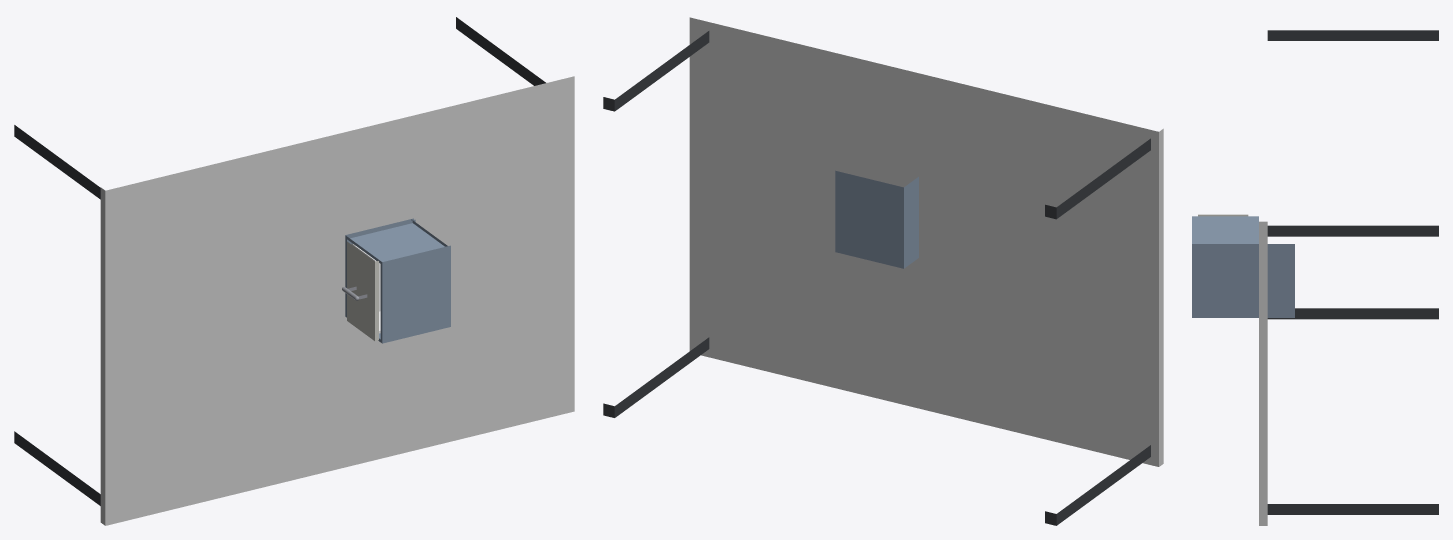
3 views of the same model, side by side, from view 1: azimuth 30°, elevation 25°; view 2: azimuth 150°, elevation 25°; view 3: azimuth 270°, elevation 25° (orthographic). The views are drawn at different scales.
Visible parts, largest first — view 1: s0, s1, s2; view 2: s0, s1; view 3: s0, s1.
Part boxes in pixels (x1,y1,x2,y2): s0: (14, 17, 574, 525); s1: (345, 218, 450, 343); s2: (342, 241, 380, 340); s0: (603, 17, 1163, 525); s1: (835, 170, 918, 268); s0: (1259, 30, 1438, 525); s1: (1192, 216, 1294, 317).
Size of the model in its own units: 2.05 by 1.4 by 1.03.
